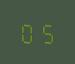five: (37, 19, 54, 44)
zero: (19, 19, 36, 43)
